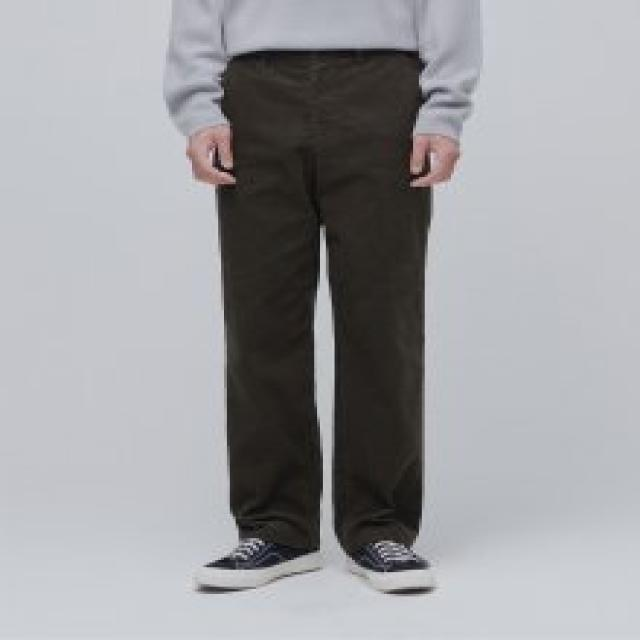long-pants: (215, 53, 428, 553)
